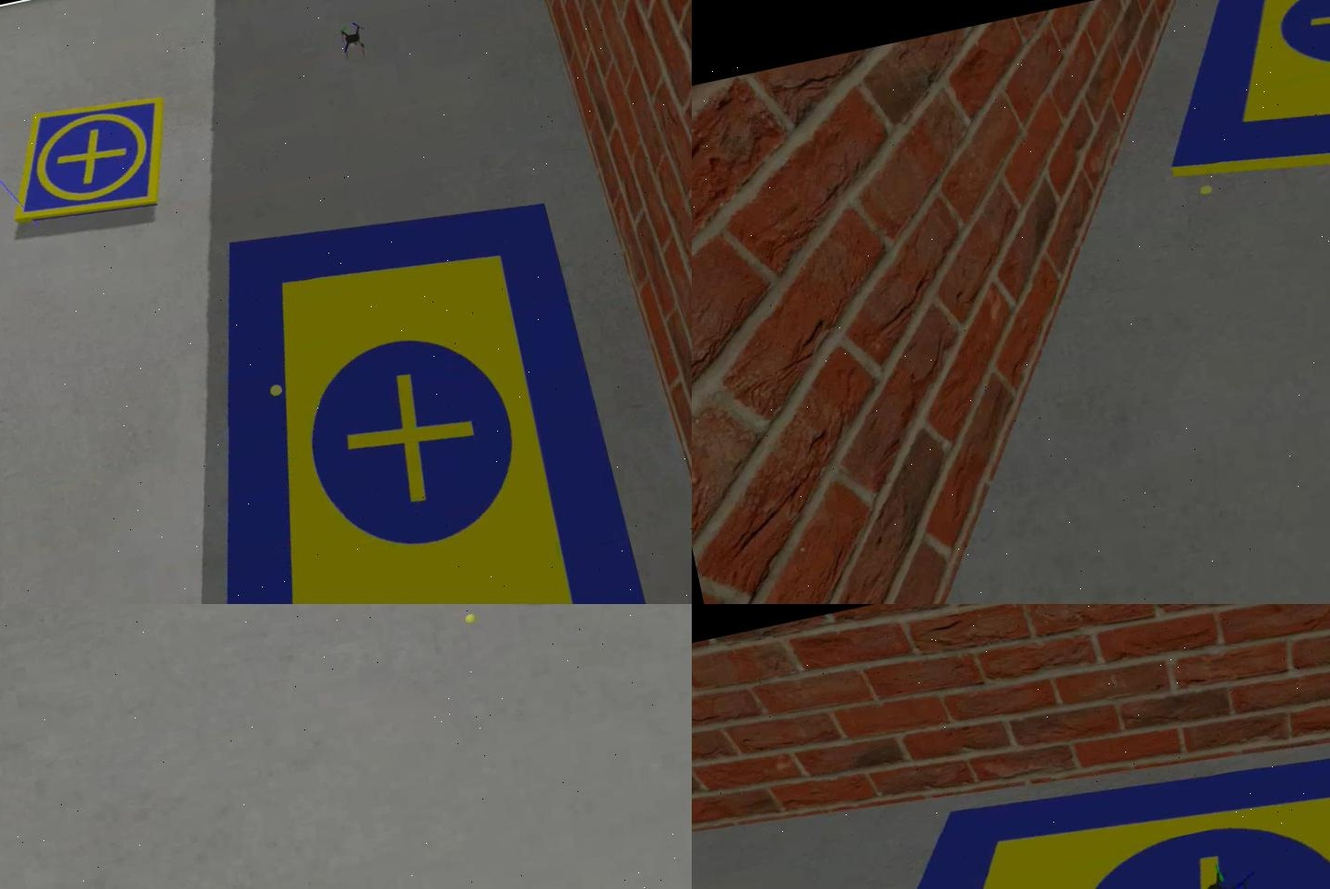large_base: (119, 176, 678, 605), (729, 661, 1328, 889), (1128, 1, 1328, 229)
small_base: (0, 90, 183, 236)
